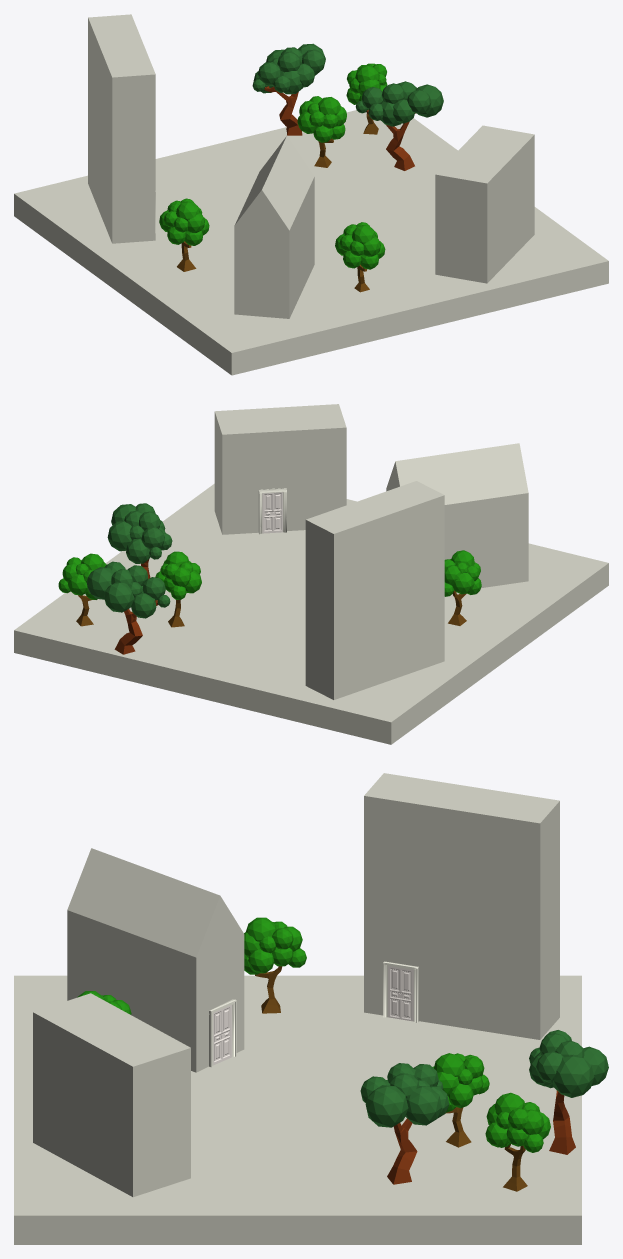
The model's file is street.fbx.
3 renders of one model, top to bottom at view 1: azimuth 30°, elevation 25°; view 2: azimuth 150°, elevation 25°; view 3: azimuth 270°, elevation 25°, orthographic. The views are drawn at different scales.
Parts seen in each view (by area): view 1: Plane; view 2: Plane; view 3: Plane.
Part boxes in pixels (x1=…): Plane: x1=14, y1=14, x2=608, y2=375; Plane: x1=14, y1=404, x2=608, y2=744; Plane: x1=14, y1=773, x2=608, y2=1244.
Bounding box in the file's own units: 4409 × 2108 × 4619.
